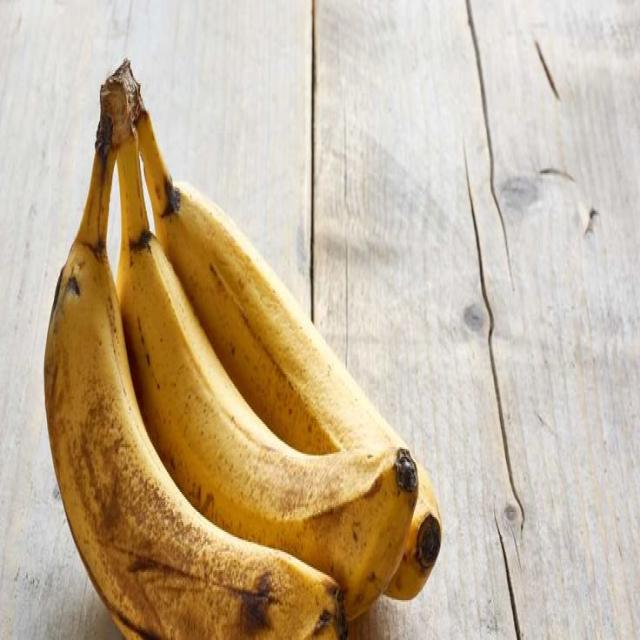unpeal banana: (45, 122, 346, 639), (117, 137, 417, 618), (137, 112, 405, 453)
